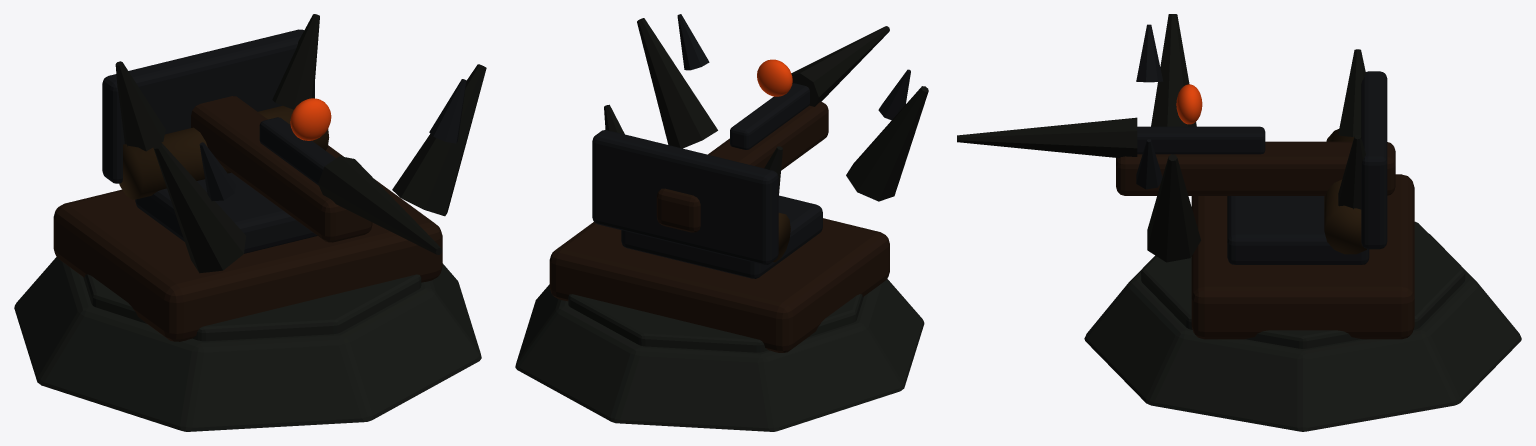
Rendered from TowerDemon2.obj.
3 views of the same model, side by side, from view 1: azimuth 30°, elevation 25°; view 2: azimuth 150°, elevation 25°; view 3: azimuth 270°, elevation 25° (orthographic). The views are drawn at different scales.
Visible parts, largest first — view 1: charred_stone_footing_lower_course, dark_oak_altar_bed, iron_horn_mantle, demon_stock, charred_stone_footing_upper_course, bone_bow_limb, black_iron_pivot, bone_bow_limb.001, bone_demon_bolt, bronze_blood_winch, altar_horn, iron_demon_guide (+4 smaller); view 2: charred_stone_footing_lower_course, dark_oak_altar_bed, iron_horn_mantle, charred_stone_footing_upper_course, demon_stock, bone_bow_limb.001, black_iron_pivot, bone_bow_limb, bone_demon_bolt, iron_demon_guide, amber_cursed_sight, iron_limb_thorn.001 (+2 smaller); view 3: charred_stone_footing_lower_course, dark_oak_altar_bed, demon_stock, black_iron_pivot, charred_stone_footing_upper_course, iron_horn_mantle, bone_demon_bolt, bone_bow_limb.001, iron_demon_guide, bone_bow_limb, bronze_blood_winch, altar_horn (+4 smaller).
Part boxes in pixels (box(x1,y1,x2,y2)): charred_stone_footing_lower_course: box(14, 257, 481, 431); dark_oak_altar_bed: box(53, 145, 442, 341); iron_horn_mantle: box(102, 29, 314, 183); demon_stock: box(191, 96, 372, 242); charred_stone_footing_upper_course: box(83, 274, 421, 341); bone_bow_limb: box(153, 142, 246, 273); black_iron_pivot: box(135, 172, 317, 253); bone_bow_limb.001: box(392, 64, 486, 216); bone_demon_bolt: box(318, 156, 442, 254); bronze_blood_winch: box(119, 105, 329, 199); altar_horn: box(115, 61, 165, 151); iron_demon_guide: box(259, 117, 335, 185); charred_stone_footing_lower_course: box(515, 279, 924, 431); dark_oak_altar_bed: box(549, 218, 889, 352); iron_horn_mantle: box(592, 130, 778, 264); charred_stone_footing_upper_course: box(568, 294, 863, 352); demon_stock: box(656, 101, 828, 232); bone_bow_limb.001: box(637, 18, 717, 148); black_iron_pivot: box(621, 195, 822, 278); bone_bow_limb: box(846, 86, 928, 201); bone_demon_bolt: box(791, 26, 889, 106); iron_demon_guide: box(730, 83, 809, 149); amber_cursed_sight: box(757, 59, 792, 96); iron_limb_thorn.001: box(677, 14, 709, 70); charred_stone_footing_lower_course: box(1084, 234, 1521, 431); dark_oak_altar_bed: box(1191, 174, 1414, 339); demon_stock: box(1116, 141, 1395, 195); black_iron_pivot: box(1227, 196, 1369, 264); charred_stone_footing_upper_course: box(1141, 221, 1465, 348); iron_horn_mantle: box(1361, 71, 1387, 249); bone_demon_bolt: box(957, 117, 1137, 157); bone_bow_limb.001: box(1147, 154, 1200, 262); iron_demon_guide: box(1137, 126, 1265, 154); bone_bow_limb: box(1151, 14, 1196, 126); bronze_blood_winch: box(1324, 129, 1366, 254); altar_horn: box(1338, 49, 1365, 136).
Bounding box in the file's own units: 1.85 × 1.2 × 2.38.
